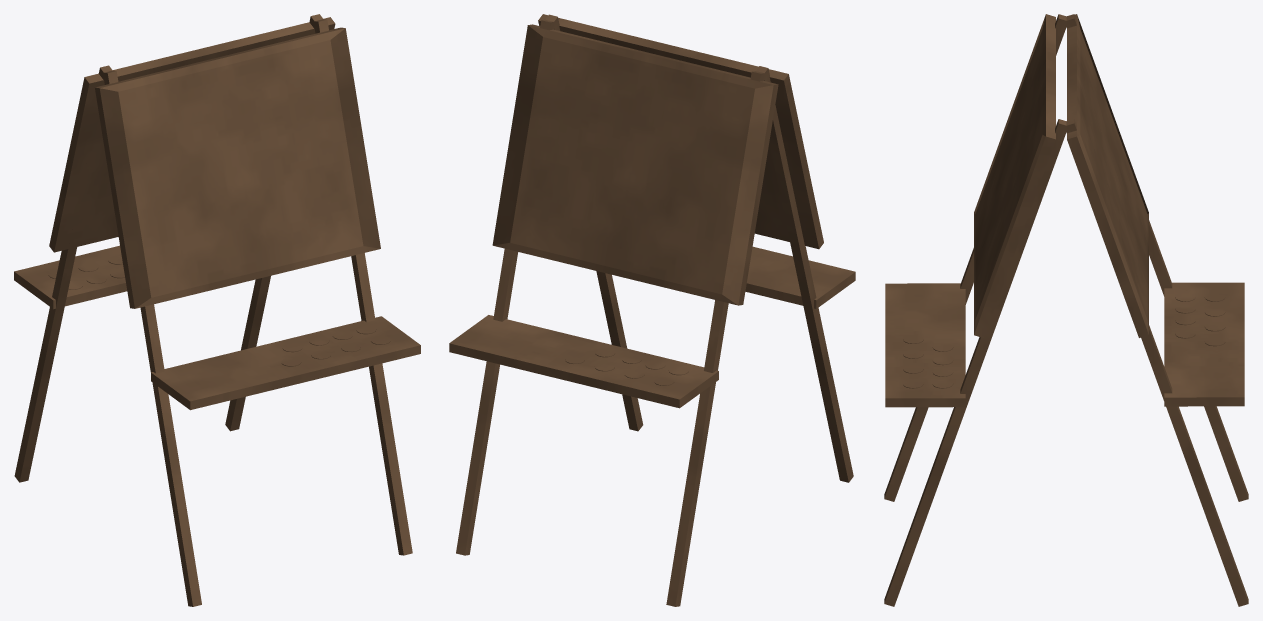
File: easel.glb
The picture shows the model from 3 angles, left to right: view 1: azimuth 30°, elevation 25°; view 2: azimuth 150°, elevation 25°; view 3: azimuth 270°, elevation 25°; orthographic projection. The views are drawn at different scales.
Visible parts, largest first — view 1: easel; view 2: easel; view 3: easel.
Part boxes in pixels (left/top/right/bottom): easel: left=14, top=14, right=420, bottom=606; easel: left=449, top=14, right=855, bottom=606; easel: left=884, top=14, right=1248, bottom=606.
Bounding box in the file's own units: 0.9505 × 1.75 × 1.2.
Materials: 1 (1 with a texture image).
